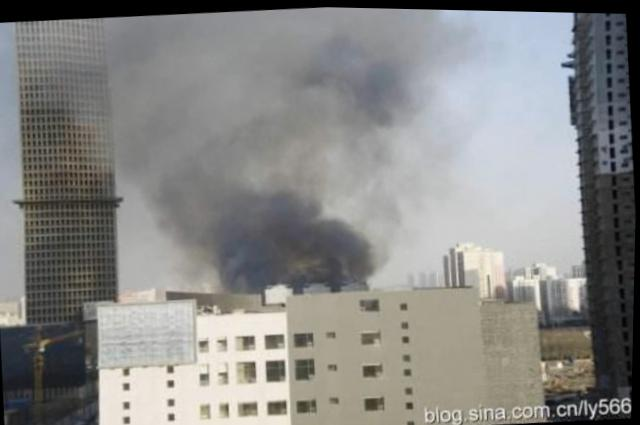smoke: (216, 4, 450, 191), (104, 15, 228, 247), (221, 184, 374, 291)
